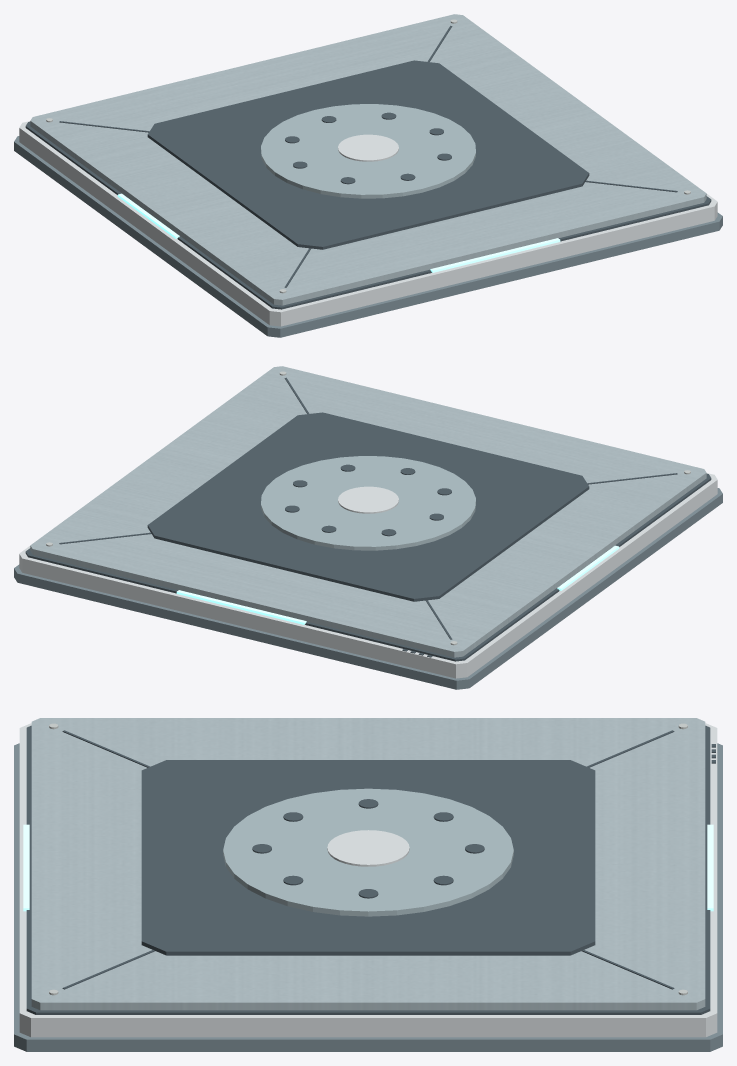
File: m02-metal-service-drain.glb
3 views of the same model, one above another, from view 1: azimuth 30°, elevation 25°; view 2: azimuth 150°, elevation 25°; view 3: azimuth 270°, elevation 25° (orthographic). The views are drawn at different scales.
Visible parts, largest first — view 1: service-drain/003, service-drain/020, service-drain/021, service-drain/001, service-drain/000, service-drain/002, service-drain/030, service-drain/014; view 2: service-drain/003, service-drain/020, service-drain/021, service-drain/001, service-drain/000, service-drain/002, service-drain/030, service-drain/013; view 3: service-drain/003, service-drain/020, service-drain/021, service-drain/001, service-drain/000, service-drain/002, service-drain/030, service-drain/013, service-drain/014.
Part boxes in pixels (left/top/right/bottom): service-drain/003: left=30, top=14, right=706, bottom=305; service-drain/020: left=147, top=60, right=589, bottom=249; service-drain/021: left=261, top=104, right=475, bottom=198; service-drain/001: left=19, top=121, right=717, bottom=326; service-drain/000: left=14, top=136, right=722, bottom=337; service-drain/002: left=25, top=121, right=711, bottom=309; service-drain/030: left=338, top=134, right=398, bottom=161; service-drain/014: left=430, top=238, right=560, bottom=272; service-drain/003: left=30, top=366, right=706, bottom=657; service-drain/020: left=147, top=412, right=589, bottom=601; service-drain/021: left=261, top=456, right=475, bottom=550; service-drain/001: left=19, top=473, right=717, bottom=678; service-drain/000: left=14, top=488, right=722, bottom=689; service-drain/002: left=25, top=473, right=711, bottom=661; service-drain/030: left=338, top=486, right=398, bottom=513; service-drain/013: left=176, top=590, right=306, bottom=624; service-drain/003: left=31, top=718, right=705, bottom=1010; service-drain/020: left=141, top=760, right=595, bottom=955; service-drain/021: left=223, top=788, right=513, bottom=916; service-drain/001: left=19, top=723, right=717, bottom=1037; service-drain/000: left=14, top=743, right=722, bottom=1051; service-drain/002: left=26, top=725, right=710, bottom=1014; service-drain/030: left=327, top=830, right=409, bottom=866; service-drain/013: left=707, top=824, right=713, bottom=911; service-drain/014: left=23, top=824, right=29, bottom=911.
Size of the model in its own units: 1 by 0.085 by 1.
Materials: 7 (1 with a texture image).
